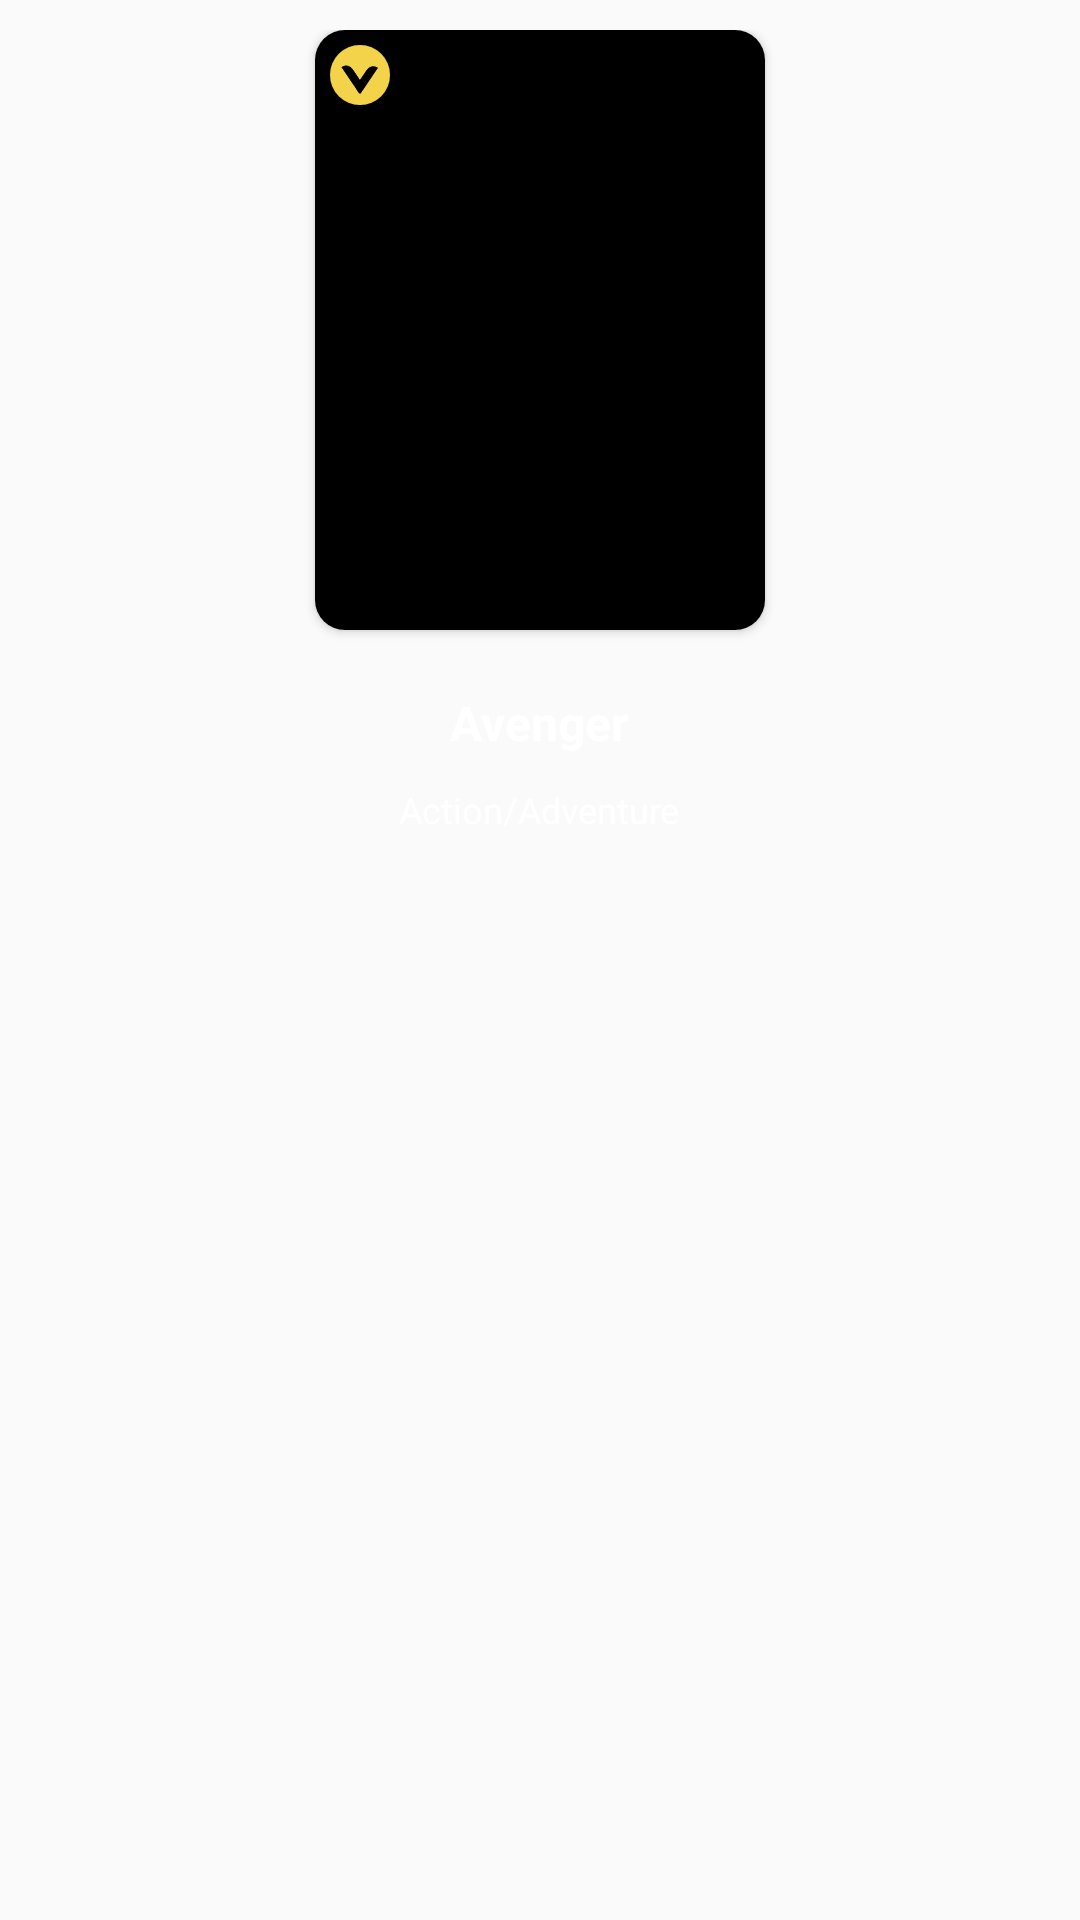

Point at icon controls on the screen. Image size 1080px×1920px, points as (x,y).
vip: (360,75)
